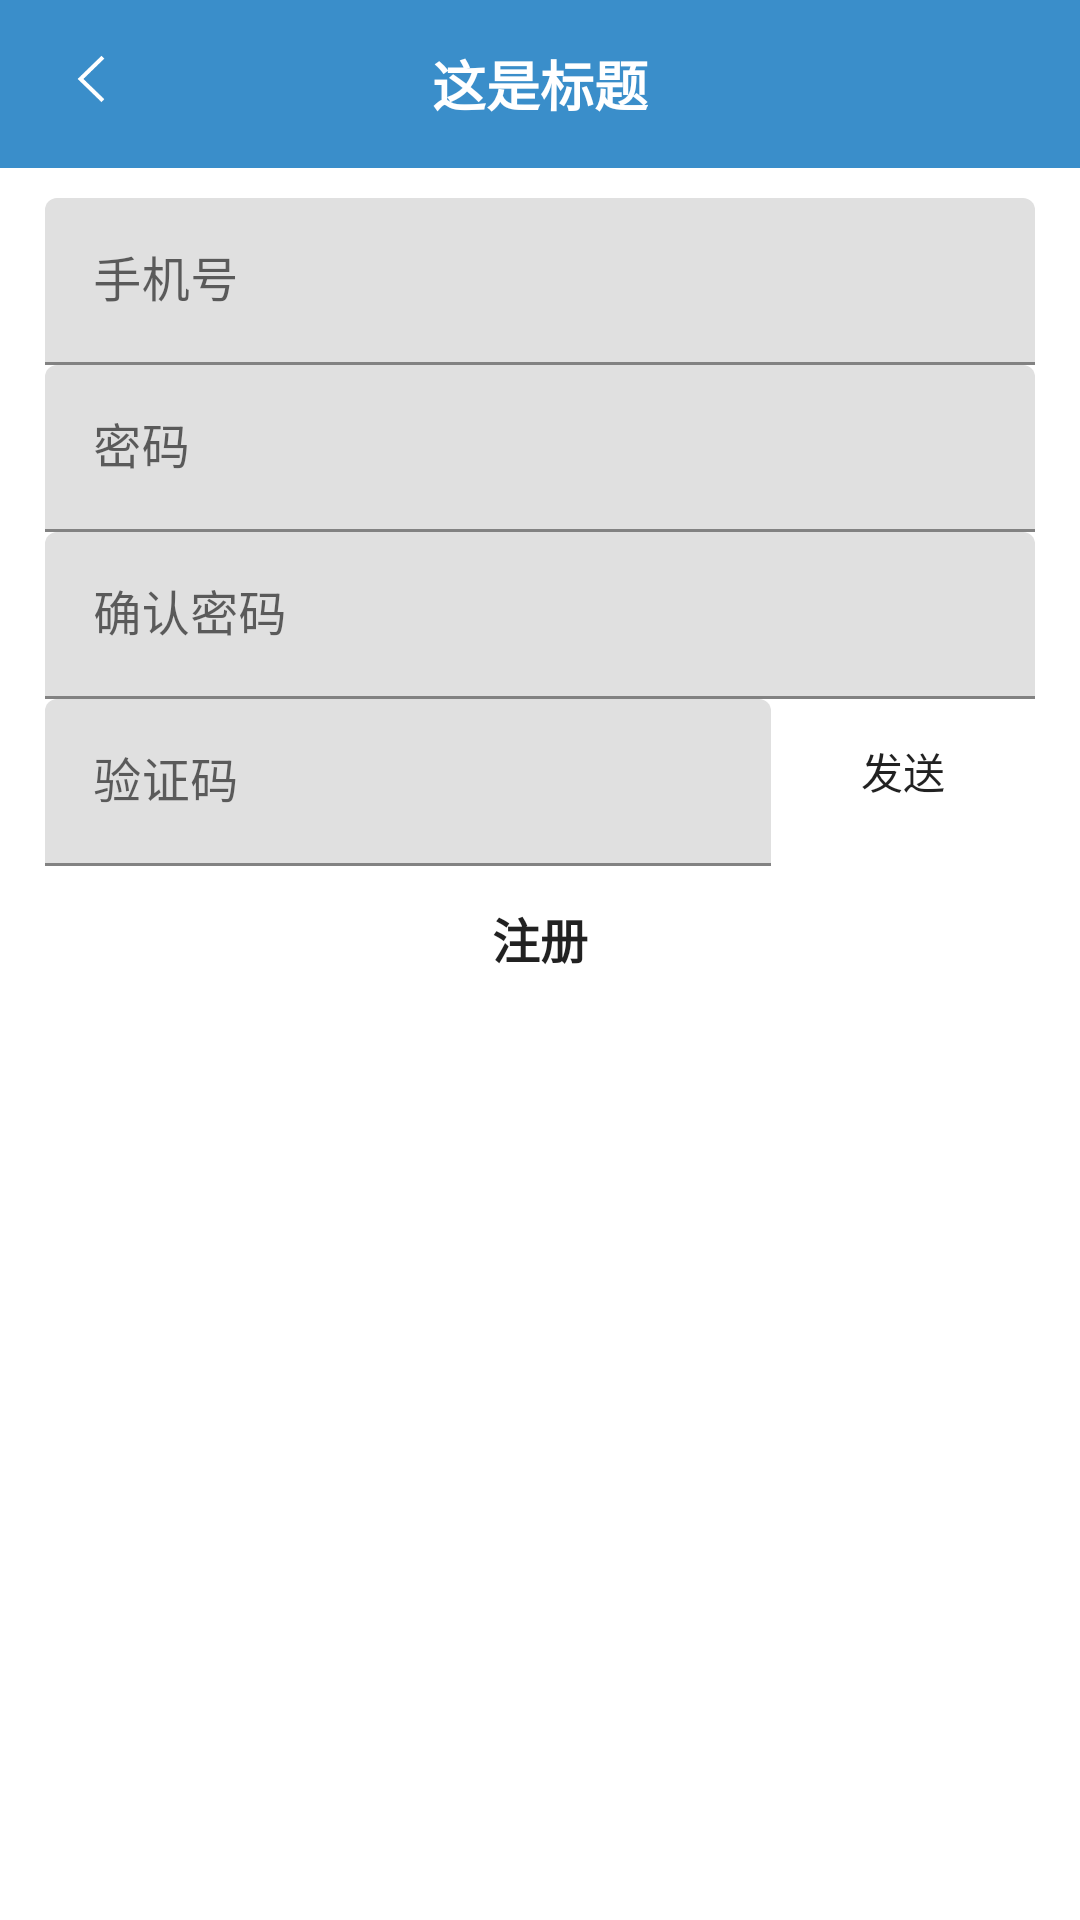

Locate icon controls on the screen. Image size 1080×1920, boxes as region(x1, y1, x2, y2).
left arrow: region(78, 56, 105, 102)
